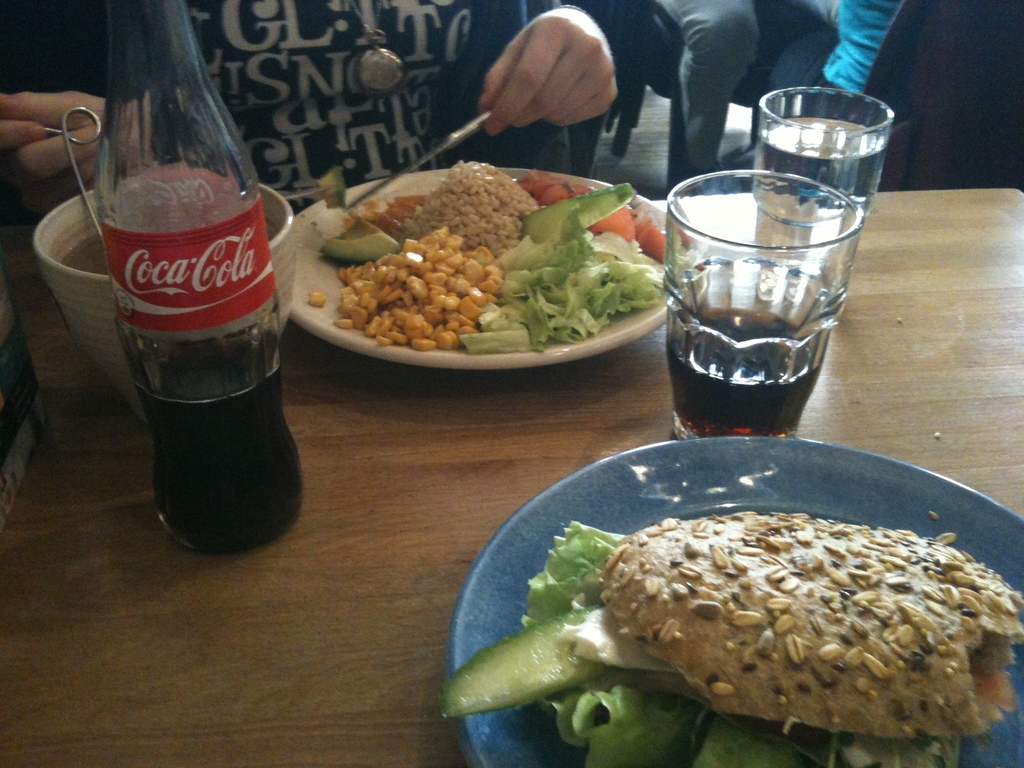sandwich: (565, 509, 1023, 732)
